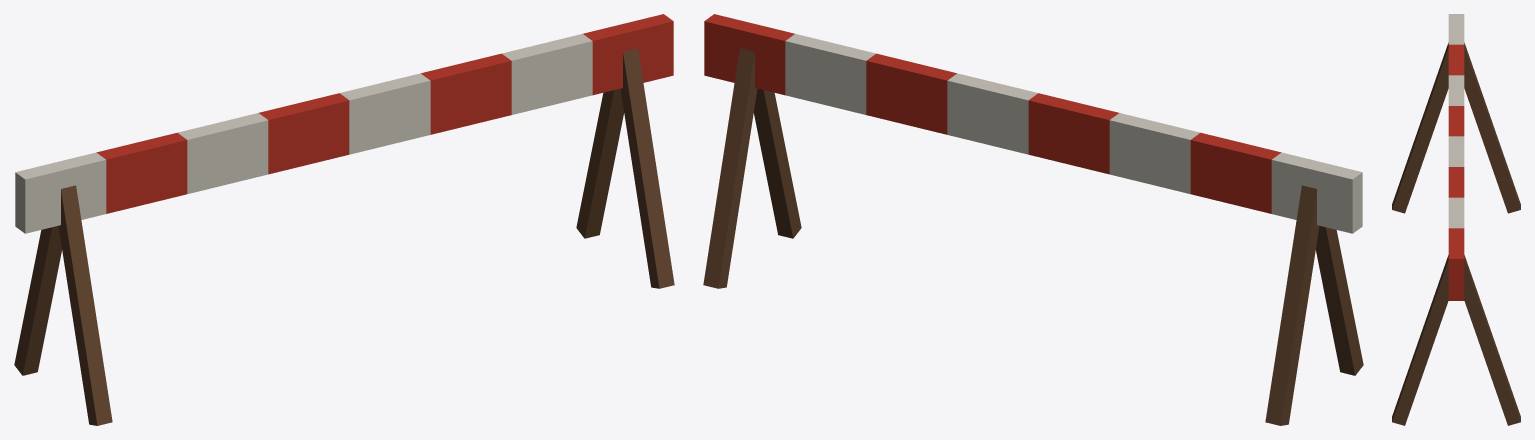
Rendered from barrier.glb.
The picture shows the model from 3 angles, left to right: view 1: azimuth 30°, elevation 25°; view 2: azimuth 150°, elevation 25°; view 3: azimuth 270°, elevation 25°; orthographic projection. The views are drawn at different scales.
Visible parts, largest first — view 1: barrier; view 2: barrier; view 3: barrier.
Boxes of the visible parts, x1,y1,x2,y2 form: barrier: (14,14,674,425); barrier: (703,14,1363,425); barrier: (1392,14,1520,425).
Size of the model in its own units: 3 by 1.03 by 0.6668.
